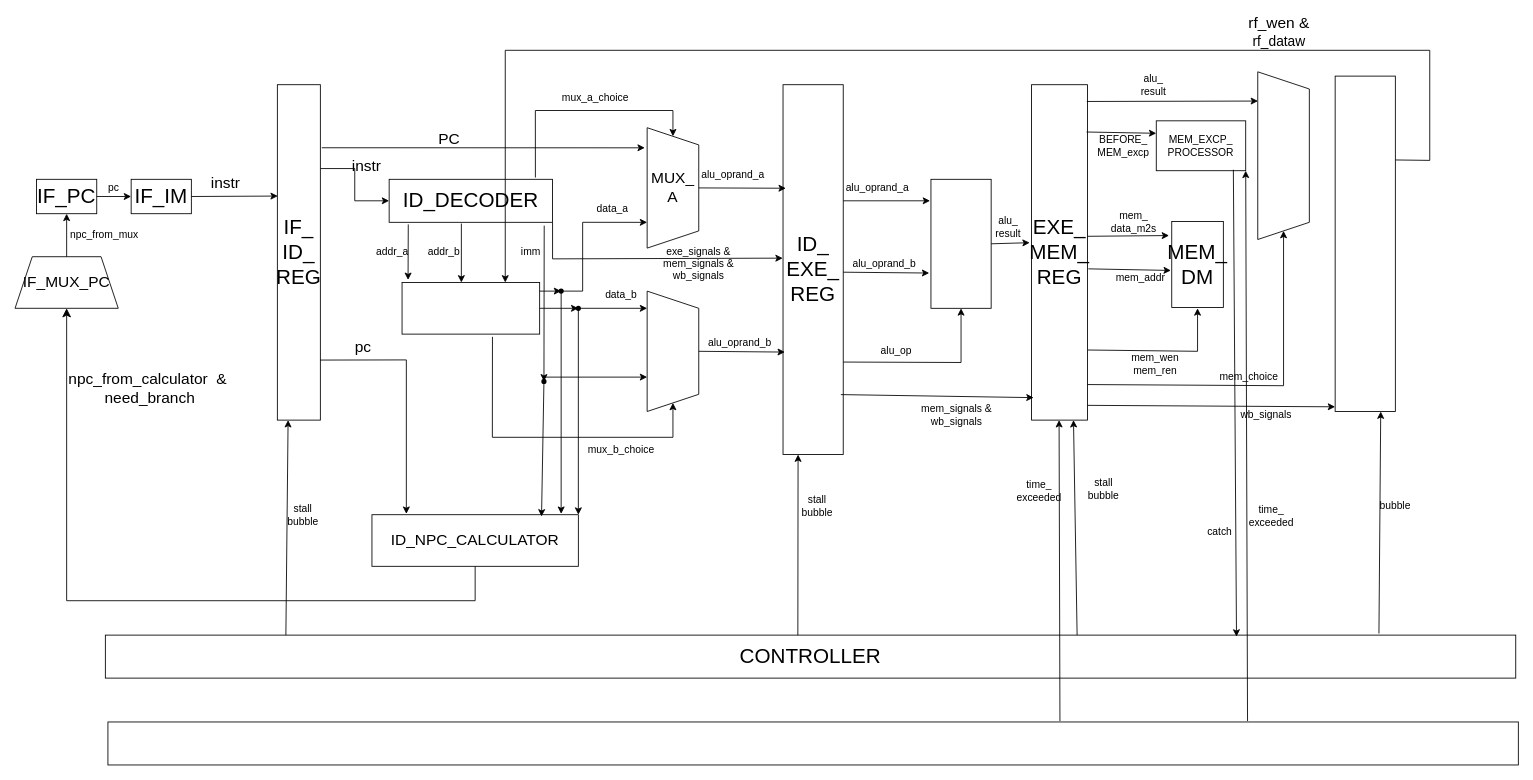
The diagram is 1533 pixels wide and 780 high, and some of its shapes have lost their labels. Each missing label, with the centre of its shape:
"EXE_ ALU" goes at point (960, 243).
"ID_RF" goes at point (470, 308).
"MEM_ WB_ REG" goes at point (1364, 243).
"MUX_ B" goes at point (672, 351).
"MUX_ MEM" goes at point (1283, 155).
"TIME_COMPARASION" goes at point (812, 743).
